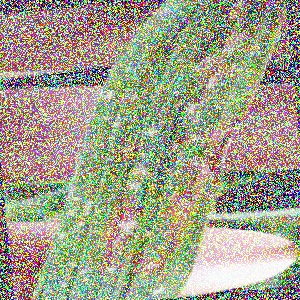Brown_Spot: (199, 112, 248, 181), (128, 238, 175, 284), (104, 203, 147, 251), (200, 62, 250, 100), (107, 136, 147, 169), (185, 43, 218, 82), (214, 31, 253, 55), (222, 0, 261, 21), (180, 121, 208, 150), (183, 91, 207, 123), (181, 145, 204, 175), (179, 179, 204, 205), (197, 157, 216, 183), (138, 220, 157, 244)
